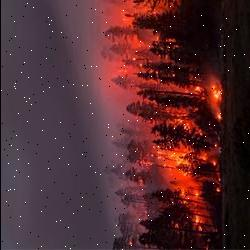fire: (147, 66, 227, 235)
